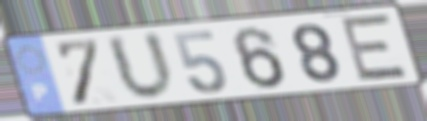5: (170, 27, 230, 96)
6: (230, 25, 288, 90)
7: (54, 37, 105, 108)
8: (291, 22, 344, 84)
E: (338, 12, 411, 84)
U: (102, 29, 179, 104)
